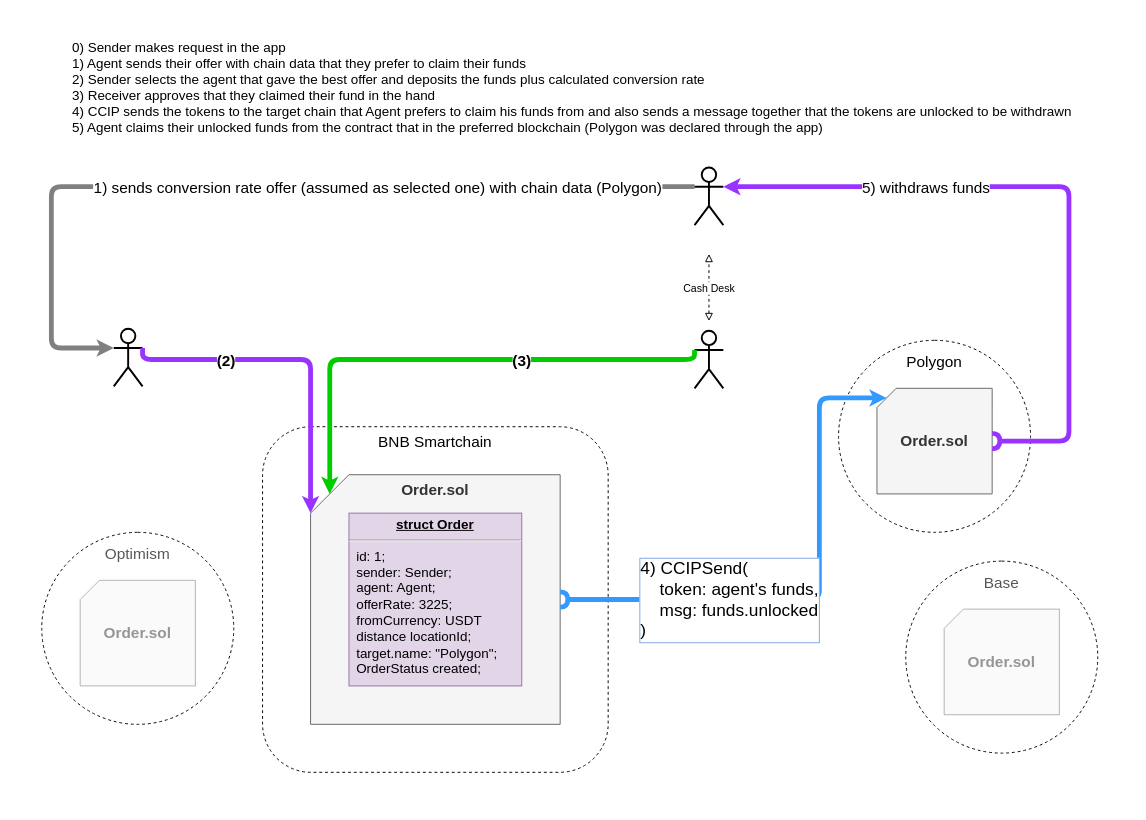
The diagram is 1146 pixels wide and 820 high, and some of its shapes have lost their labels. The shapes that lost their labels are listed below. From the top down, each one's centre as x and y in pixels, then its label:
At [708,196]: "Agent".
At [127,357]: "Sender".
At [708,359]: "Receiver".
